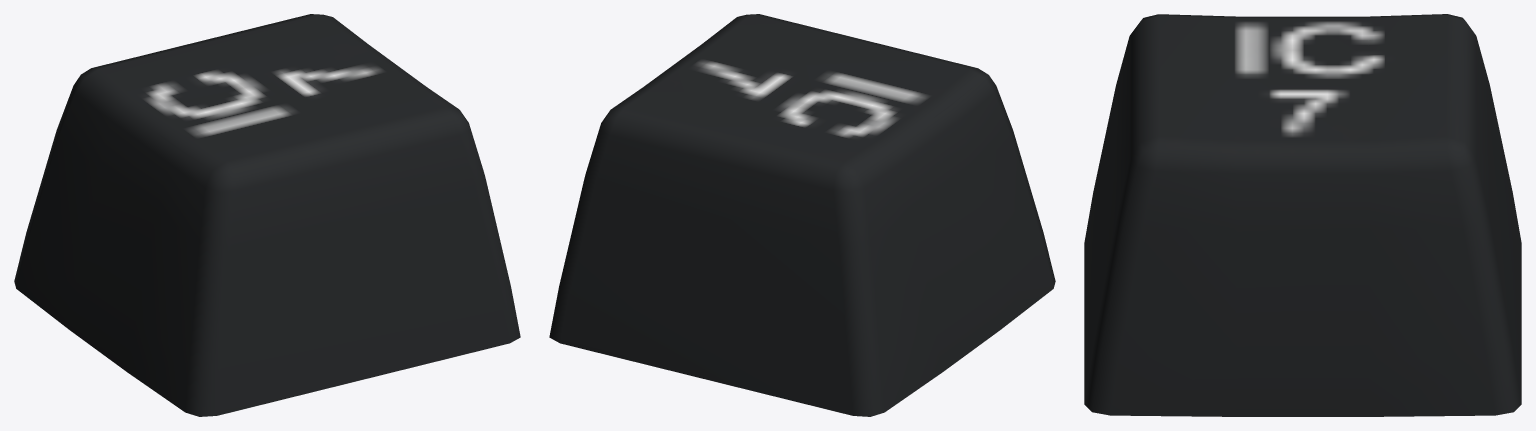
Rendered from sept.glb.
3 views of the same model, side by side, from view 1: azimuth 30°, elevation 25°; view 2: azimuth 150°, elevation 25°; view 3: azimuth 270°, elevation 25° (orthographic). The views are drawn at different scales.
Visible parts, largest first — view 1: IC; view 2: IC; view 3: IC.
Boxes of the visible parts, x1,y1,x2,y2 form: IC: (14, 14, 520, 416); IC: (549, 14, 1055, 416); IC: (1084, 14, 1521, 416).
Size of the model in its own units: 0.0231 by 0.0145 by 0.0228.
1 material, 1 textured.
